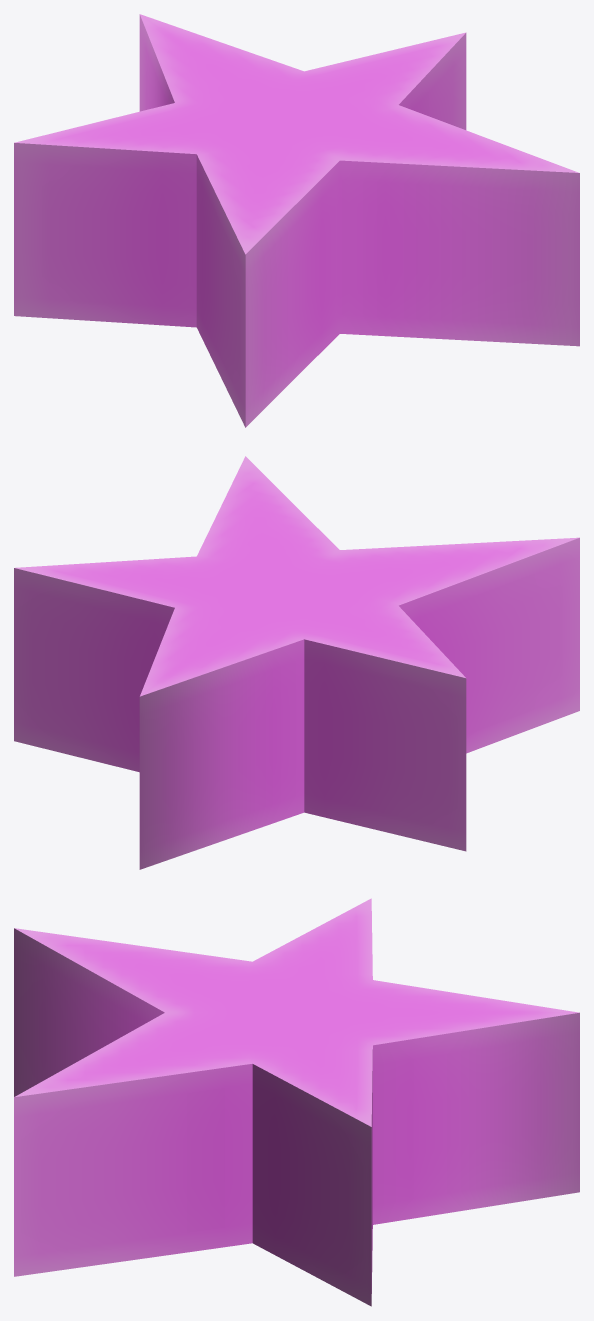
The model's file is jsf_ChocolateDecoration_03.fbx.
3 views of the same model, one above another, from view 1: azimuth 30°, elevation 25°; view 2: azimuth 150°, elevation 25°; view 3: azimuth 270°, elevation 25° (orthographic). The views are drawn at different scales.
Parts seen in each view (by area): view 1: jsf_ChocolateDecoration_03; view 2: jsf_ChocolateDecoration_03; view 3: jsf_ChocolateDecoration_03.
Part boxes in pixels (left/top/right/bottom): jsf_ChocolateDecoration_03: left=14, top=14, right=579, bottom=427; jsf_ChocolateDecoration_03: left=14, top=456, right=579, bottom=869; jsf_ChocolateDecoration_03: left=14, top=898, right=579, bottom=1306.
Bounding box in the file's own units: 4.51 × 1.65 × 4.71.
